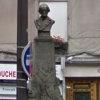Statue: (20, 2, 73, 54)
